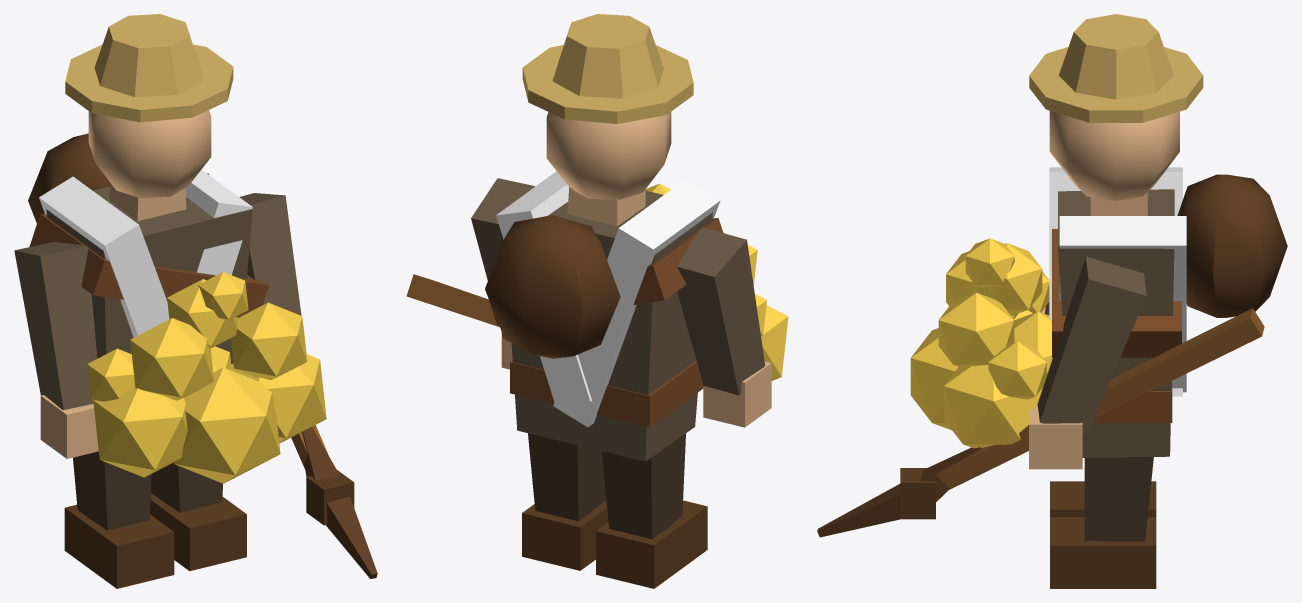
The model's file is Worker_FirstAge.glb.
3 views of the same model, side by side, from view 1: azimuth 30°, elevation 25°; view 2: azimuth 150°, elevation 25°; view 3: azimuth 270°, elevation 25° (orthographic).
Visible parts, largest first — view 1: Load_Gold, Straw, Team, Left_Cloth, Skin, Cloth, LegA_Dark, LegB_Dark, Right_Cloth, Tool_Dark, LegA_Trouser, Leather (+3 smaller); view 2: Dark, Cloth, Straw, Team, Left_Cloth, Skin, Leather, LegA_Trouser, LegA_Dark, LegB_Trouser, LegB_Dark, Left_Skin (+3 smaller); view 3: Load_Gold, Straw, Dark, Right_Cloth, Skin, Cloth, Team, Tool_Wood, LegB_Dark, LegB_Trouser, Leather, Tool_Dark (+2 smaller).
Boxes of the visible parts, left/top/right/bottom form: Load_Gold: left=87, top=272, right=326, bottom=483; Straw: left=65, top=14, right=233, bottom=122; Team: left=39, top=169, right=252, bottom=337; Left_Cloth: left=14, top=242, right=97, bottom=409; Skin: left=88, top=110, right=211, bottom=221; Cloth: left=46, top=186, right=252, bottom=358; LegA_Dark: left=64, top=504, right=174, bottom=588; LegB_Dark: left=150, top=493, right=246, bottom=571; Right_Cloth: left=239, top=193, right=301, bottom=315; Tool_Dark: left=302, top=427, right=377, bottom=578; LegA_Trouser: left=73, top=451, right=151, bottom=530; Leather: left=29, top=214, right=268, bottom=363; Dark: left=485, top=215, right=620, bottom=358; Cloth: left=511, top=190, right=712, bottom=461; Straw: left=522, top=14, right=693, bottom=124; Team: left=496, top=171, right=720, bottom=427; Left_Cloth: left=677, top=227, right=764, bottom=395; Skin: left=546, top=112, right=671, bottom=225; Leather: left=488, top=218, right=723, bottom=427; LegA_Trouser: left=601, top=433, right=685, bottom=539; LegA_Dark: left=596, top=500, right=707, bottom=588; LegB_Trouser: left=528, top=433, right=606, bottom=521; LegB_Dark: left=522, top=500, right=608, bottom=570; Left_Skin: left=703, top=361, right=771, bottom=427; Load_Gold: left=910, top=238, right=1052, bottom=448; Straw: left=1029, top=14, right=1203, bottom=122; Dark: left=1177, top=174, right=1287, bottom=317; Right_Cloth: left=1038, top=256, right=1146, bottom=435; Skin: left=1049, top=111, right=1179, bottom=215; Cloth: left=1058, top=189, right=1174, bottom=457; Team: left=1049, top=167, right=1186, bottom=396; Tool_Wood: left=936, top=308, right=1264, bottom=489; LegB_Dark: left=1050, top=517, right=1156, bottom=588; LegB_Trouser: left=1084, top=457, right=1153, bottom=541; Leather: left=1052, top=229, right=1181, bottom=422; Tool_Dark: left=817, top=447, right=981, bottom=537.
Size of the model in its own units: 0.4253 by 0.845 by 0.6866.
